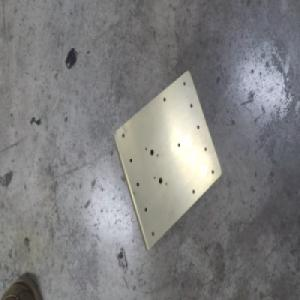MetalSheet: (110, 68, 223, 253)
